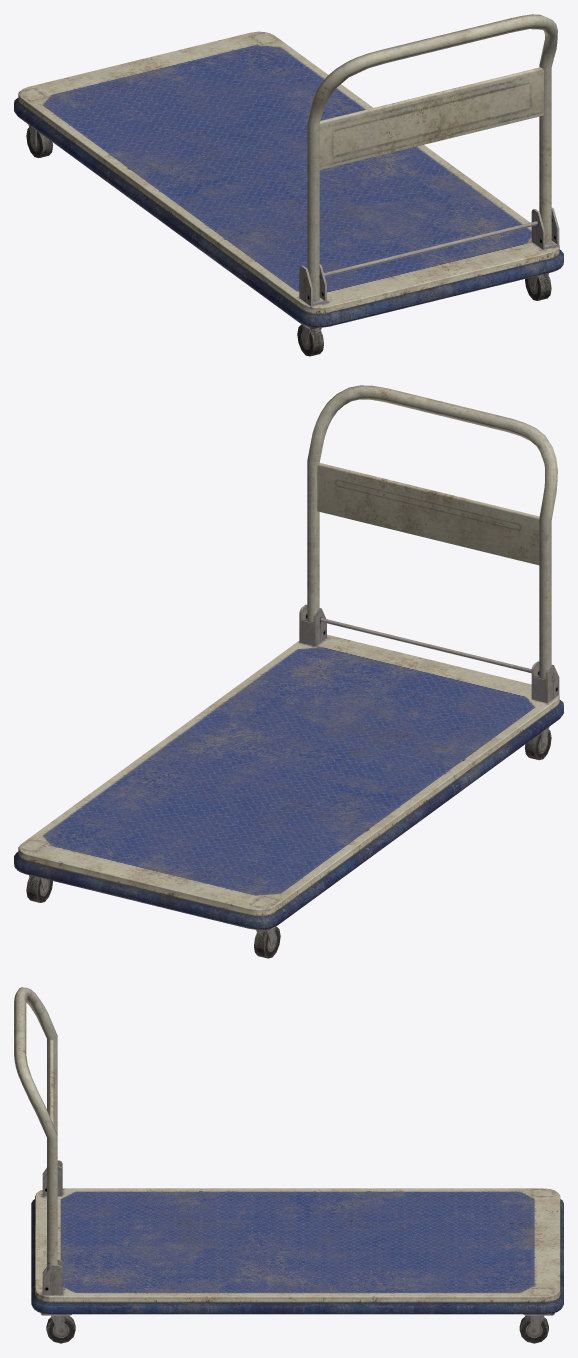
File: 208_HandCart.fbx
3 renders of one model, top to bottom at view 1: azimuth 30°, elevation 25°; view 2: azimuth 150°, elevation 25°; view 3: azimuth 270°, elevation 25°, orthographic. The views are drawn at different scales.
Parts seen in each view (by area): view 1: LOD_1_Group_4_Sub_1__sm30_065_HandCart01A_A_Mat, LOD_1_Group_1_Sub_1__sm30_065_HandCart01A_A_Mat, LOD_1_Group_0_Sub_1__sm30_065_HandCart01A_A_Mat, LOD_1_Group_7_Sub_1__sm30_065_HandCart01A_A_Mat, LOD_1_Group_3_Sub_1__sm30_065_HandCart01A_A_Mat, LOD_1_Group_2_Sub_1__sm30_065_HandCart01A_A_Mat; view 2: LOD_1_Group_4_Sub_1__sm30_065_HandCart01A_A_Mat, LOD_1_Group_1_Sub_1__sm30_065_HandCart01A_A_Mat, LOD_1_Group_0_Sub_1__sm30_065_HandCart01A_A_Mat, LOD_1_Group_3_Sub_1__sm30_065_HandCart01A_A_Mat, LOD_1_Group_7_Sub_1__sm30_065_HandCart01A_A_Mat, LOD_1_Group_2_Sub_1__sm30_065_HandCart01A_A_Mat; view 3: LOD_1_Group_4_Sub_1__sm30_065_HandCart01A_A_Mat, LOD_1_Group_0_Sub_1__sm30_065_HandCart01A_A_Mat, LOD_1_Group_7_Sub_1__sm30_065_HandCart01A_A_Mat, LOD_1_Group_3_Sub_1__sm30_065_HandCart01A_A_Mat, LOD_1_Group_1_Sub_1__sm30_065_HandCart01A_A_Mat.
Boxes of the visible parts, x1=… form: LOD_1_Group_4_Sub_1__sm30_065_HandCart01A_A_Mat: x1=14, y1=31, x2=563, y2=327; LOD_1_Group_1_Sub_1__sm30_065_HandCart01A_A_Mat: x1=319, y1=67, x2=543, y2=169; LOD_1_Group_0_Sub_1__sm30_065_HandCart01A_A_Mat: x1=307, y1=14, x2=557, y2=301; LOD_1_Group_7_Sub_1__sm30_065_HandCart01A_A_Mat: x1=26, y1=128, x2=551, y2=356; LOD_1_Group_3_Sub_1__sm30_065_HandCart01A_A_Mat: x1=299, y1=207, x2=559, y2=306; LOD_1_Group_2_Sub_1__sm30_065_HandCart01A_A_Mat: x1=324, y1=221, x2=538, y2=276; LOD_1_Group_4_Sub_1__sm30_065_HandCart01A_A_Mat: x1=14, y1=634, x2=563, y2=929; LOD_1_Group_1_Sub_1__sm30_065_HandCart01A_A_Mat: x1=317, y1=463, x2=539, y2=565; LOD_1_Group_0_Sub_1__sm30_065_HandCart01A_A_Mat: x1=307, y1=385, x2=557, y2=678; LOD_1_Group_3_Sub_1__sm30_065_HandCart01A_A_Mat: x1=299, y1=604, x2=559, y2=702; LOD_1_Group_7_Sub_1__sm30_065_HandCart01A_A_Mat: x1=26, y1=730, x2=551, y2=958; LOD_1_Group_2_Sub_1__sm30_065_HandCart01A_A_Mat: x1=320, y1=618, x2=531, y2=673; LOD_1_Group_4_Sub_1__sm30_065_HandCart01A_A_Mat: x1=31, y1=1188, x2=563, y2=1314; LOD_1_Group_0_Sub_1__sm30_065_HandCart01A_A_Mat: x1=14, y1=987, x2=57, y2=1271; LOD_1_Group_7_Sub_1__sm30_065_HandCart01A_A_Mat: x1=46, y1=1315, x2=548, y2=1343; LOD_1_Group_3_Sub_1__sm30_065_HandCart01A_A_Mat: x1=42, y1=1160, x2=62, y2=1295; LOD_1_Group_1_Sub_1__sm30_065_HandCart01A_A_Mat: x1=48, y1=1039, x2=54, y2=1126.
Size of the model in its own units: 1.04 by 1.17 by 2.16.
